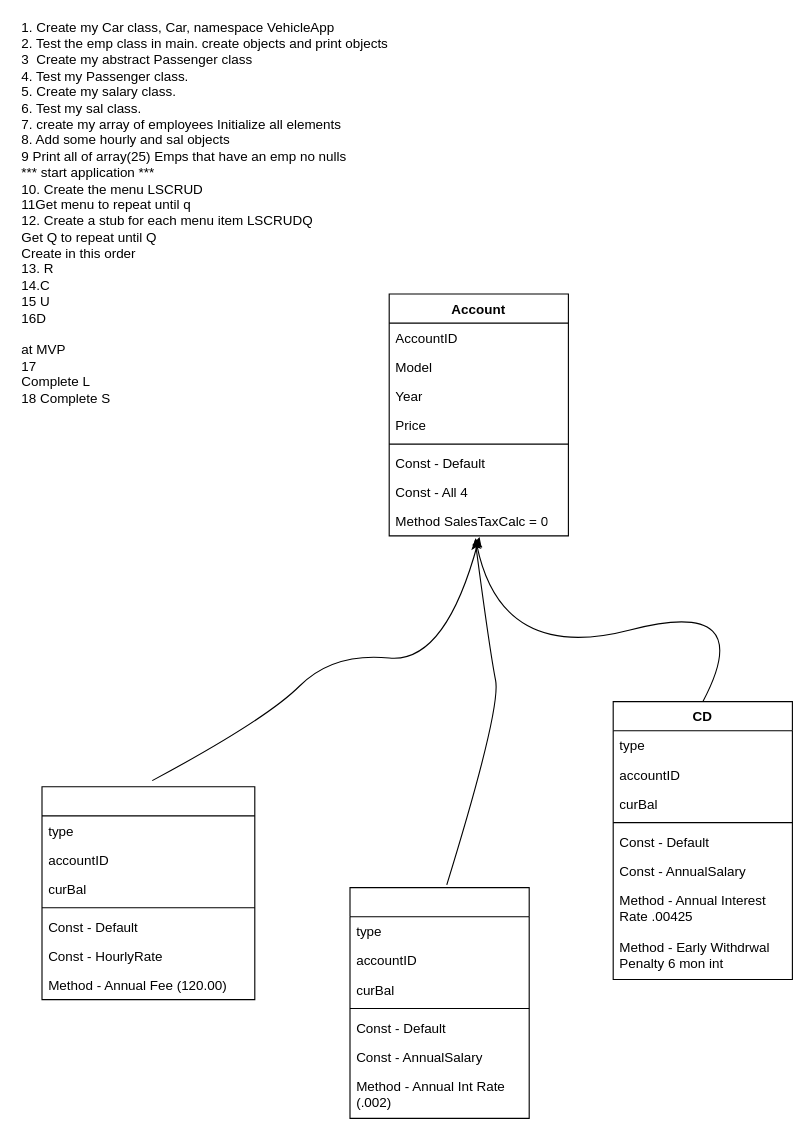
Image size: 812x1140. Some labels were removed from this diagram. Here are the shapes that lost their labels. From the top down, the box of each, then its label:
(41, 786, 255, 1000): Checking
(349, 886, 529, 1118): Savings
